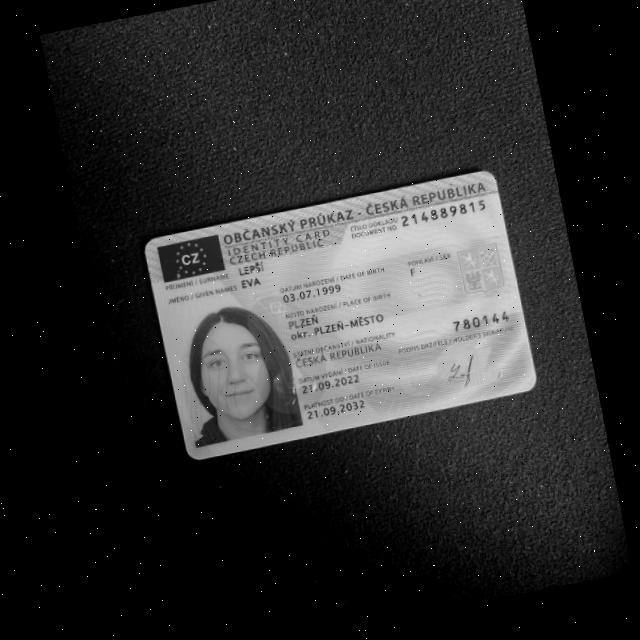card: (146, 172, 535, 458)
